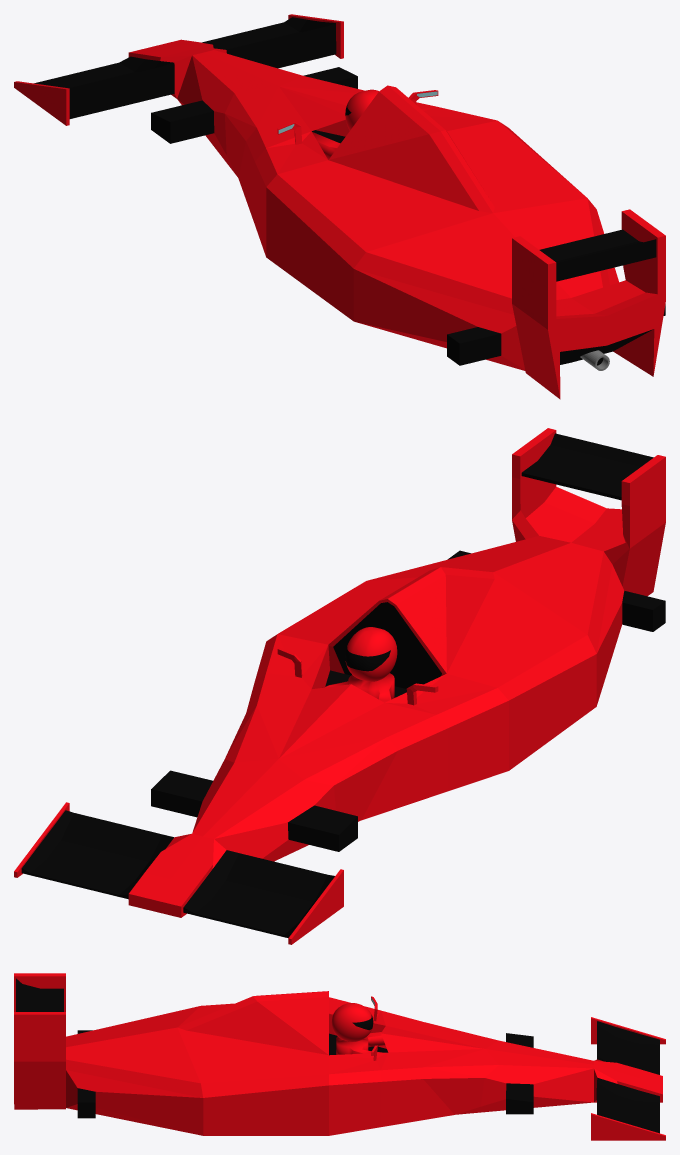
Rendered from Formula.fbx.
3 renders of one model, top to bottom at view 1: azimuth 30°, elevation 25°; view 2: azimuth 150°, elevation 25°; view 3: azimuth 270°, elevation 25°, orthographic. The views are drawn at different scales.
Visible parts, largest first — view 1: Formula; view 2: Formula; view 3: Formula.
Boxes of the visible parts, box(x1,y1,x2,y2) form: Formula: box(14, 14, 665, 399); Formula: box(14, 428, 665, 944); Formula: box(14, 973, 665, 1140).
Bounding box in the file's own units: 4.57 × 2.25 × 12.96.
